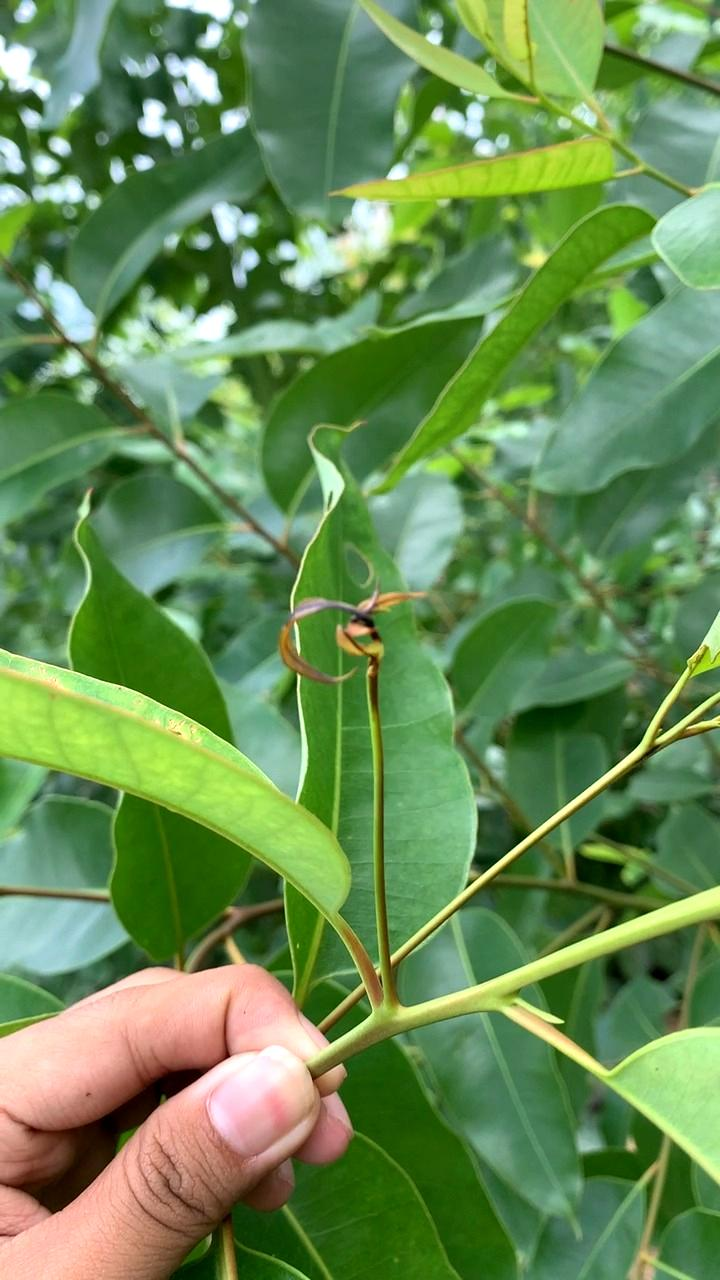Helopeltis-Withered Sprout: (275, 570, 446, 719)
